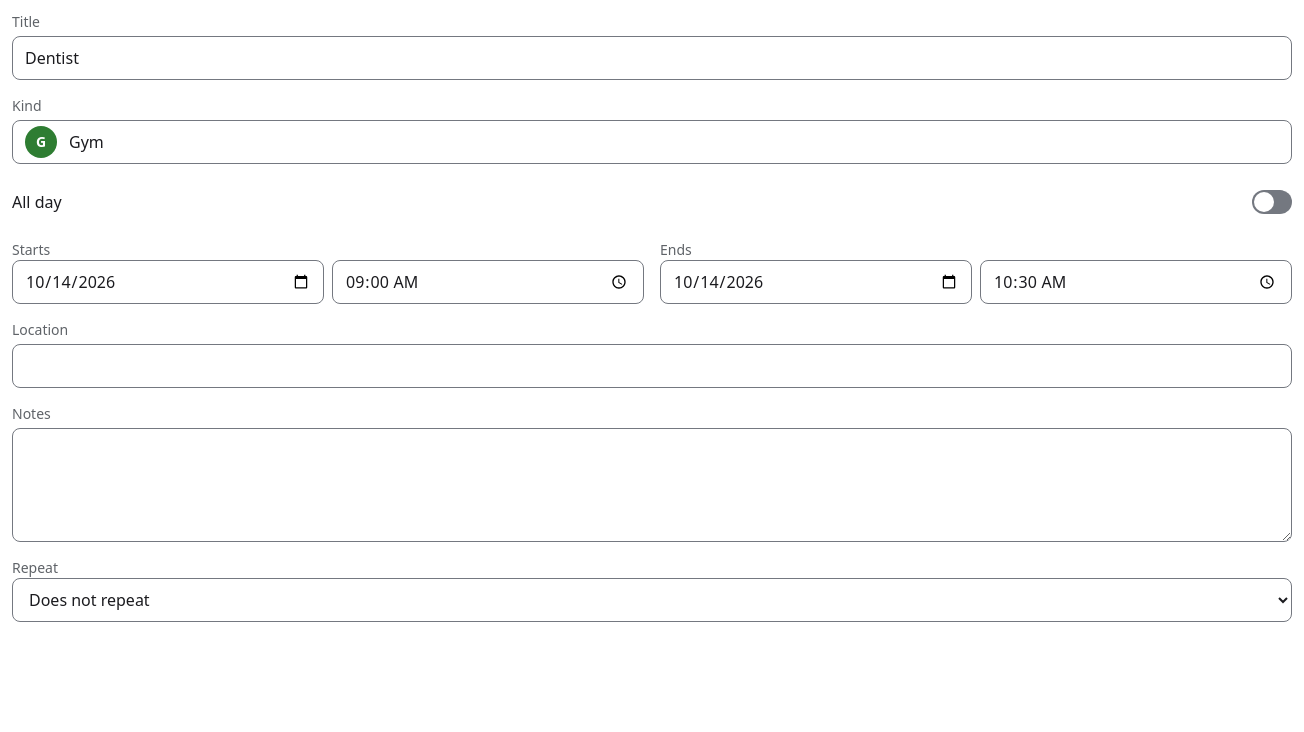
Test: the start drags the end along (AC-3, Block 4 through moveStart) › Start date 14 -> 15 Oct: End date shows 15 Oct, times unchanged
Step 1. Type "2026-10-15" into the date field named "Start date" → (168, 282), box [12,260,324,304]
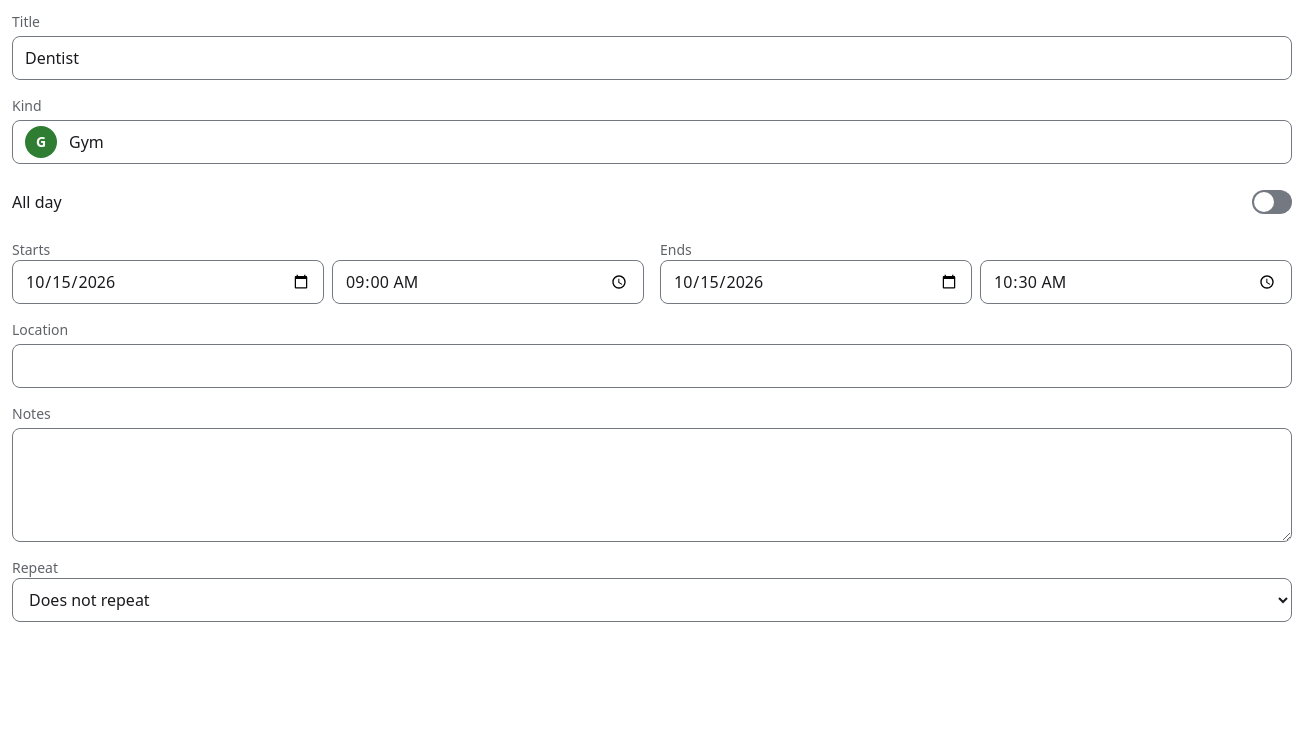
Expected: the time field named "End time" holds "10:30", [980,260,1292,304]
Now the date field named "End date" holds "2026-10-15", box [660,260,972,304]
